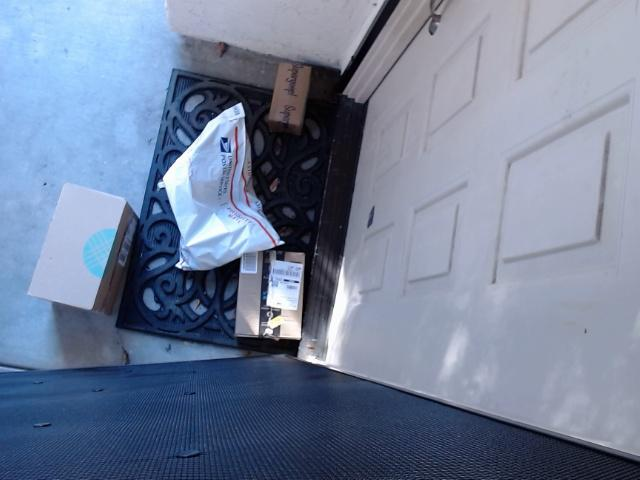box: (27, 174, 130, 340), (225, 237, 316, 364), (263, 45, 333, 166)
plastic_bag: (157, 94, 295, 287)
